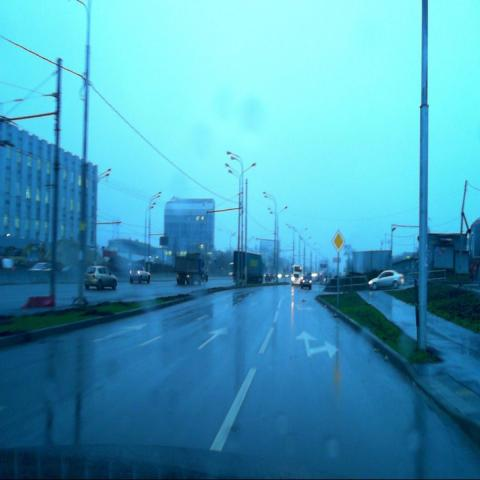2_1: (332, 230, 345, 253)
